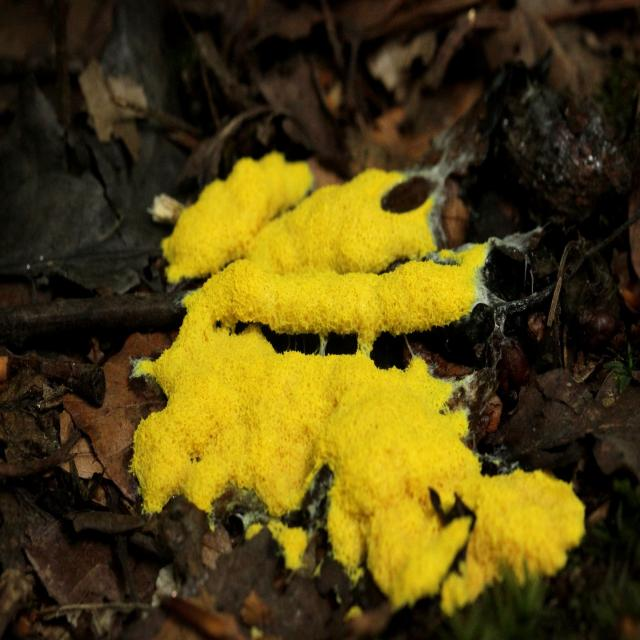Dog_vomit_slime_mold: (126, 118, 613, 640)
